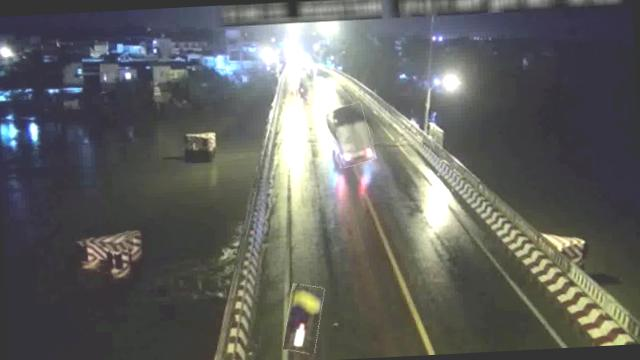Bike: (282, 282, 324, 354)
Truck: (326, 102, 373, 166)
